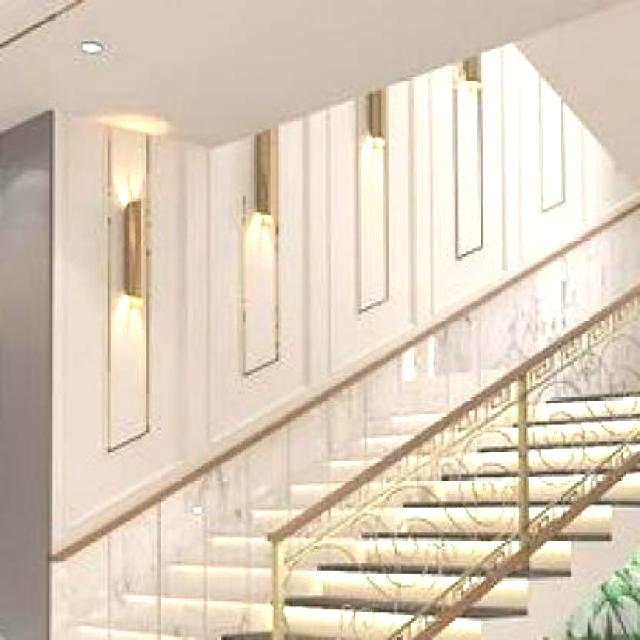stair: (43, 352, 640, 638)
